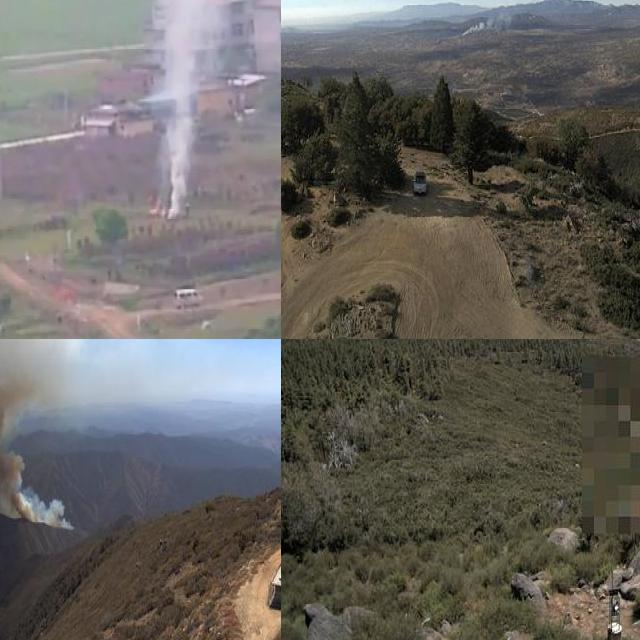smoke: (136, 0, 248, 219), (0, 339, 80, 536), (455, 1, 549, 41)
